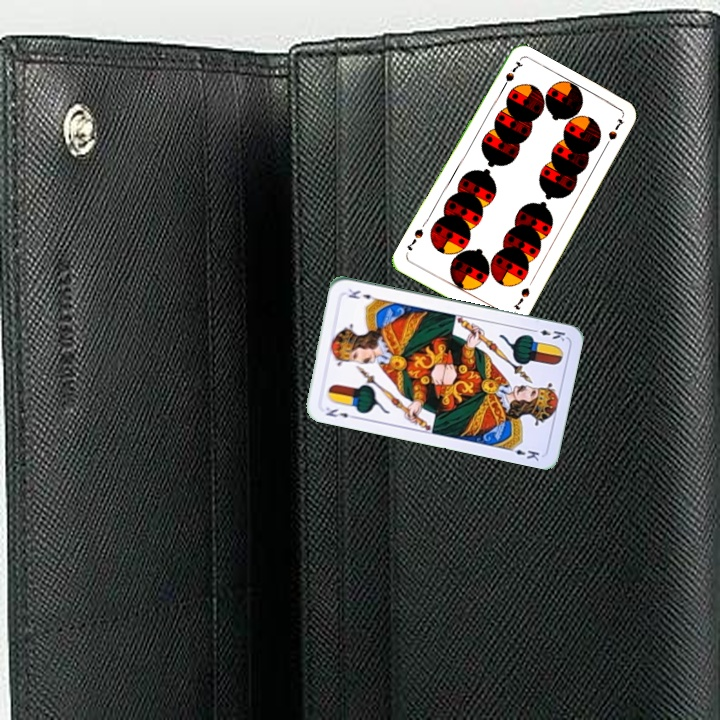EK: (527, 325, 568, 344), (322, 403, 358, 421)
S7: (497, 57, 523, 94), (509, 283, 532, 313)
